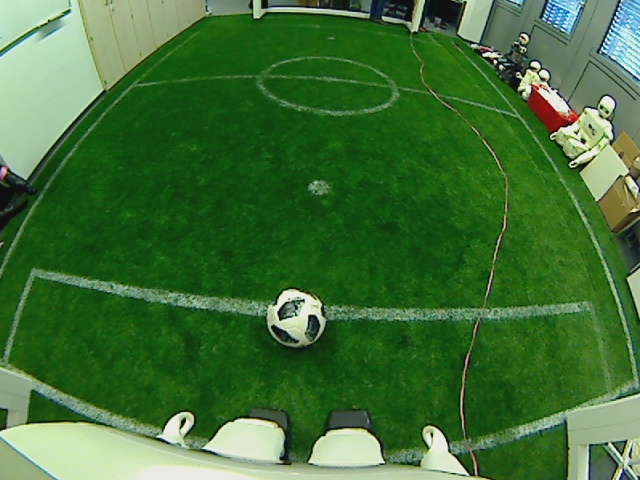ball: (266, 287, 328, 350)
